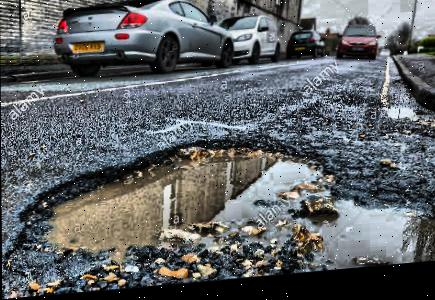pothole: (14, 129, 342, 283), (283, 189, 435, 279), (383, 108, 416, 128)
